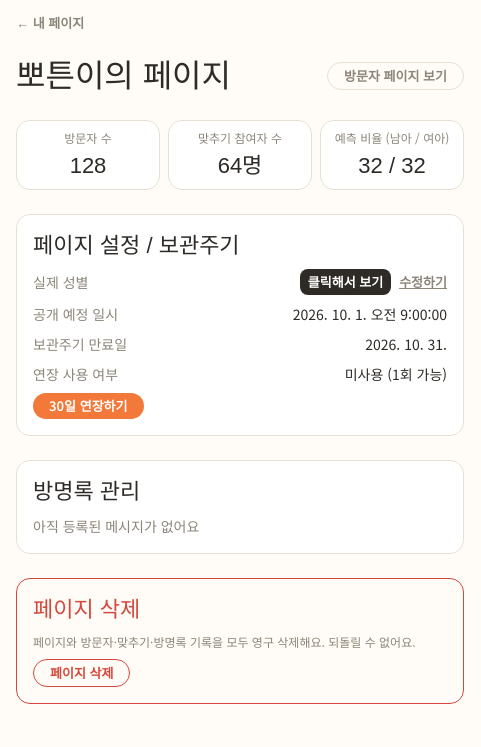
OwnerPageDetailScreen › shows an error when deletion fails
Click the button "페이지 삭제" at x=82, y=673, box 33,659 -> 130,687
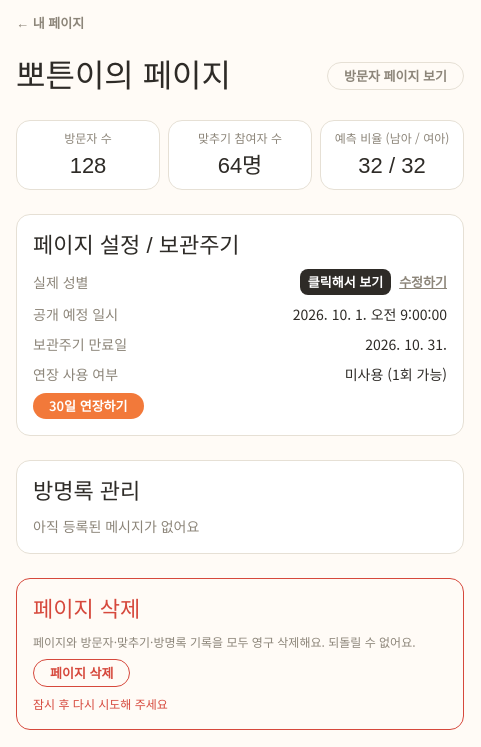
Expected: the text "잠시 후 다시 시도해 주세요" is shown, 33,695 -> 168,712
